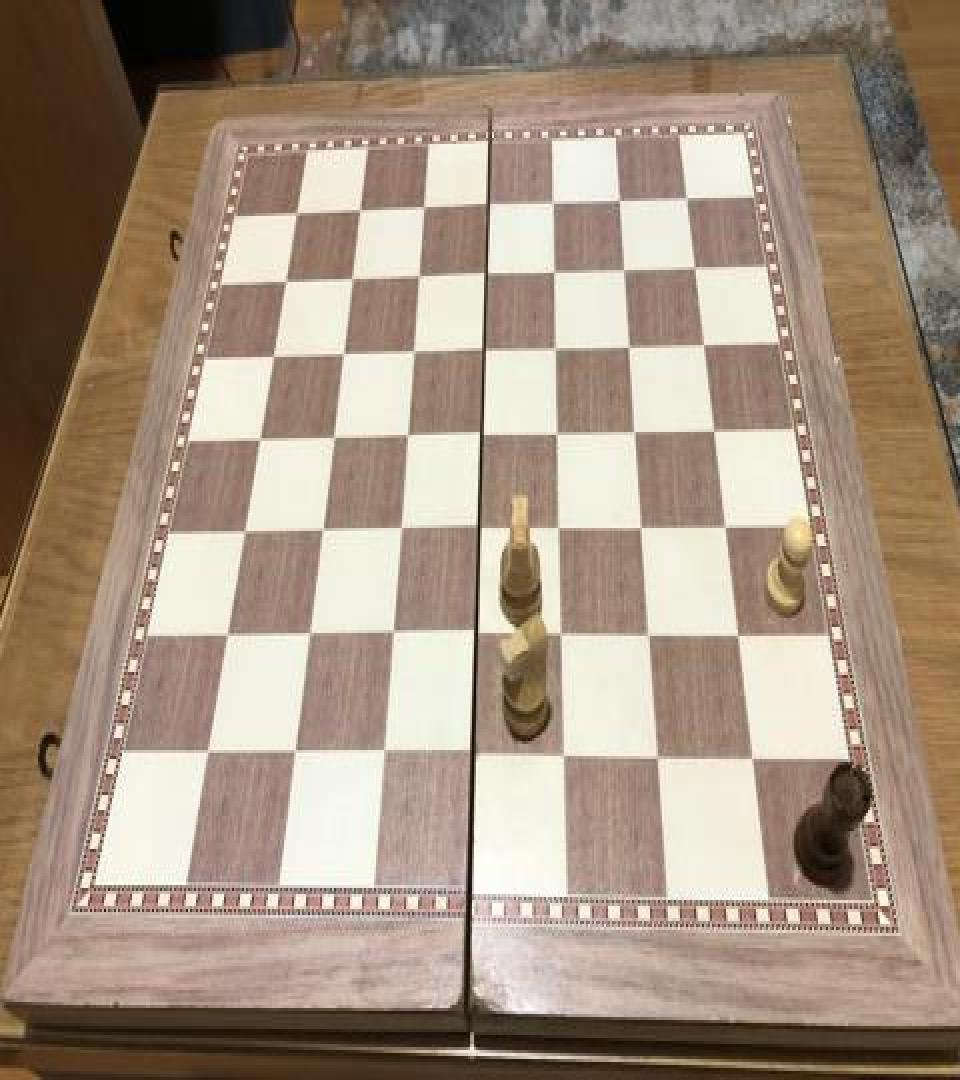xcorner: (389, 514, 413, 551), (310, 514, 334, 551), (742, 742, 766, 779), (462, 739, 486, 776), (673, 183, 697, 219), (606, 186, 630, 222), (541, 189, 565, 225), (476, 192, 500, 228), (412, 195, 436, 231), (348, 196, 372, 232), (286, 200, 310, 236), (681, 252, 705, 288), (611, 255, 635, 291), (542, 258, 566, 294), (407, 262, 431, 298), (340, 266, 364, 302), (275, 267, 299, 303), (691, 330, 715, 366), (617, 332, 641, 368), (544, 333, 568, 369), (472, 336, 496, 372), (401, 338, 425, 374), (331, 339, 355, 375), (262, 342, 286, 378), (701, 416, 725, 452), (623, 417, 647, 453), (546, 418, 570, 454), (470, 420, 494, 456), (395, 422, 419, 458), (321, 423, 345, 459), (249, 424, 273, 460), (713, 512, 737, 548), (630, 512, 654, 548), (548, 513, 572, 549), (468, 513, 492, 549), (234, 516, 258, 552), (727, 620, 751, 656), (638, 620, 662, 656), (551, 620, 575, 656), (465, 620, 489, 656), (381, 620, 405, 656), (298, 620, 322, 656), (217, 620, 241, 656), (647, 741, 671, 777), (554, 741, 578, 777), (372, 738, 396, 774), (284, 738, 308, 774), (197, 736, 221, 772), (474, 260, 498, 295)
